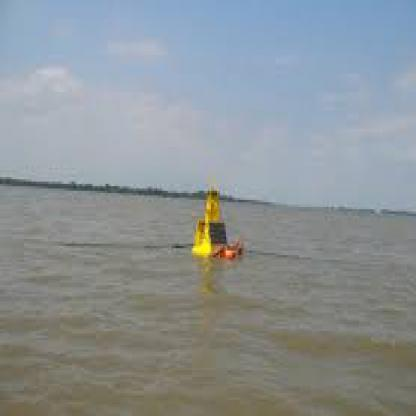buoy: (184, 182, 248, 274)
